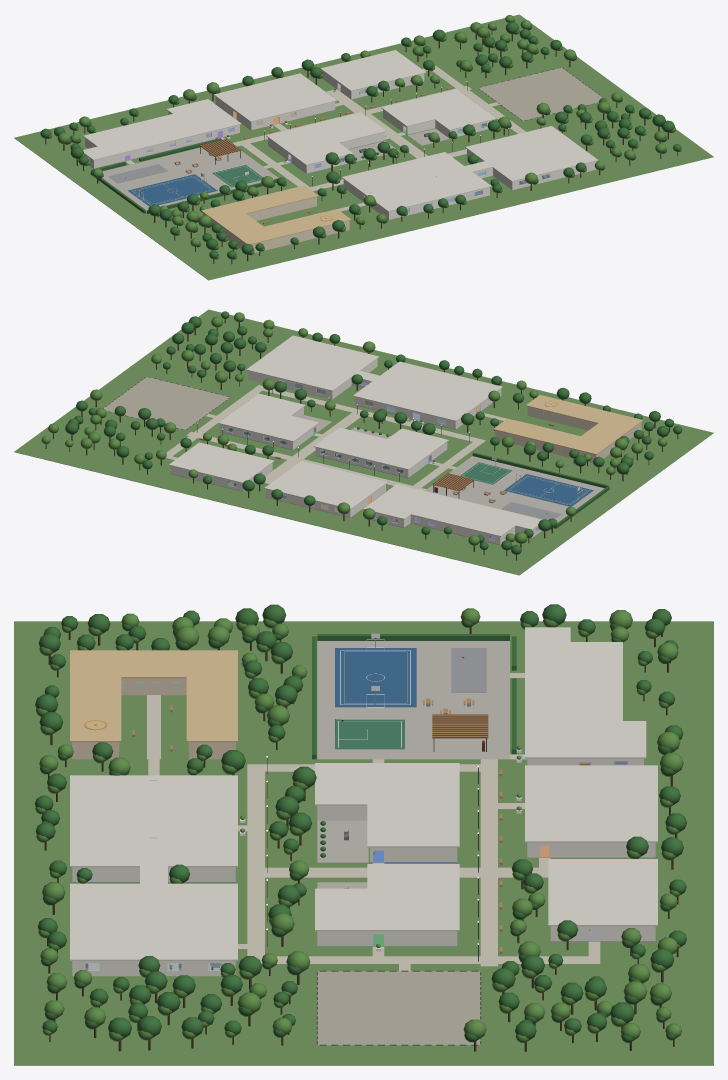
The model's file is campus.glb.
The picture shows the model from 3 angles, top to bottom: view 1: azimuth 30°, elevation 25°; view 2: azimuth 150°, elevation 25°; view 3: azimuth 270°, elevation 25°; orthographic projection. The views are drawn at different scales.
Visible parts, largest first — view 1: Site_Lawn_Proposed_Extent, 05_Recreation_Center_Roof_0, 06_Performance_Health_Roof_0, Future_Expansion_Zone_Unbuilt_Ground, Outdoor_Hardscape_Proposed, 04_Dining_Roof_0, 03_Kairos_Commons_Roof_1, 01_League_Building_Roof_0, 08_Administration_Media_Roof_0, 02_CounterStrike_Building_Roof_0, Residential_General_Accommodation, Outdoor_Multipurpose_Court_Surface (+12 smaller); view 2: Site_Lawn_Proposed_Extent, 05_Recreation_Center_Roof_0, 06_Performance_Health_Roof_0, Future_Expansion_Zone_Unbuilt_Ground, Outdoor_Hardscape_Proposed, 04_Dining_Roof_0, 03_Kairos_Commons_Roof_1, 01_League_Building_Roof_0, 08_Administration_Media_Roof_0, 02_CounterStrike_Building_Roof_0, Residential_General_Accommodation, Outdoor_Multipurpose_Court_Surface (+14 smaller); view 3: Site_Lawn_Proposed_Extent, 05_Recreation_Center_Roof_0, Outdoor_Hardscape_Proposed, 06_Performance_Health_Roof_0, Future_Expansion_Zone_Unbuilt_Ground, 04_Dining_Roof_0, 03_Kairos_Commons_Roof_1, 01_League_Building_Roof_0, 08_Administration_Media_Roof_0, 02_CounterStrike_Building_Roof_0, Outdoor_Multipurpose_Court_Surface, Residential_General_Accommodation_Mass_1_Roof (+25 smaller).
Part boxes in pixels (<box>): Site_Lawn_Proposed_Extent: <box>14,14,713,280</box>; 05_Recreation_Center_Roof_0: <box>341,152,491,211</box>; 06_Performance_Health_Roof_0: <box>465,126,598,181</box>; Future_Expansion_Zone_Unbuilt_Ground: <box>478,67,602,120</box>; Outdoor_Hardscape_Proposed: <box>102,147,278,212</box>; 04_Dining_Roof_0: <box>213,73,337,121</box>; 03_Kairos_Commons_Roof_1: <box>83,113,200,155</box>; 01_League_Building_Roof_0: <box>266,112,386,153</box>; 08_Administration_Media_Roof_0: <box>320,50,426,91</box>; 02_CounterStrike_Building_Roof_0: <box>381,89,480,126</box>; Residential_General_Accommodation: <box>203,197,349,252</box>; Outdoor_Multipurpose_Court_Surface: <box>128,174,217,206</box>; Site_Lawn_Proposed_Extent: <box>14,309,713,575</box>; 05_Recreation_Center_Roof_0: <box>353,361,502,421</box>; 06_Performance_Health_Roof_0: <box>246,335,379,391</box>; Future_Expansion_Zone_Unbuilt_Ground: <box>104,376,230,430</box>; Outdoor_Hardscape_Proposed: <box>425,456,604,527</box>; 04_Dining_Roof_0: <box>264,461,387,509</box>; 03_Kairos_Commons_Roof_1: <box>409,494,525,536</box>; 01_League_Building_Roof_0: <box>313,427,433,469</box>; 08_Administration_Media_Roof_0: <box>169,442,274,483</box>; 02_CounterStrike_Building_Roof_0: <box>218,404,318,441</box>; Residential_General_Accommodation: <box>495,406,641,463</box>; Outdoor_Multipurpose_Court_Surface: <box>504,474,593,506</box>; Site_Lawn_Proposed_Extent: <box>14,621,713,1065</box>; 05_Recreation_Center_Roof_0: <box>70,775,237,867</box>; Outdoor_Hardscape_Proposed: <box>317,641,509,759</box>; 06_Performance_Health_Roof_0: <box>70,883,237,960</box>; Future_Expansion_Zone_Unbuilt_Ground: <box>317,971,480,1045</box>; 04_Dining_Roof_0: <box>525,765,657,842</box>; 03_Kairos_Commons_Roof_1: <box>525,642,622,722</box>; 01_League_Building_Roof_0: <box>367,763,459,847</box>; 08_Administration_Media_Roof_0: <box>548,859,657,926</box>; 02_CounterStrike_Building_Roof_0: <box>367,864,459,931</box>; Outdoor_Multipurpose_Court_Surface: <box>335,648,416,707</box>; Residential_General_Accommodation_Mass_1_Roof: <box>70,650,237,678</box>.
Size of what is drawn, in the model's own units: 180 by 6.43 by 120.
